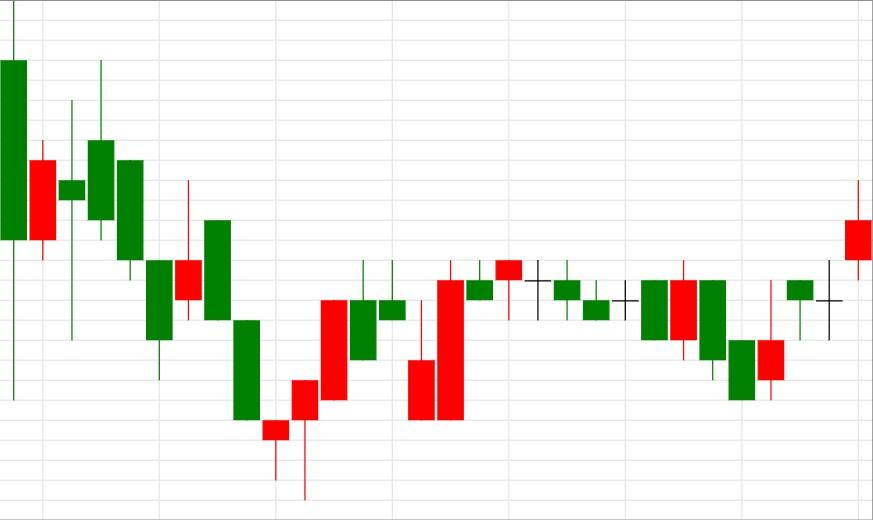hammer_rise: (175, 178, 290, 481)
hanging_man_fall: (407, 259, 525, 423)
shooting_star_fall: (261, 261, 407, 501)
